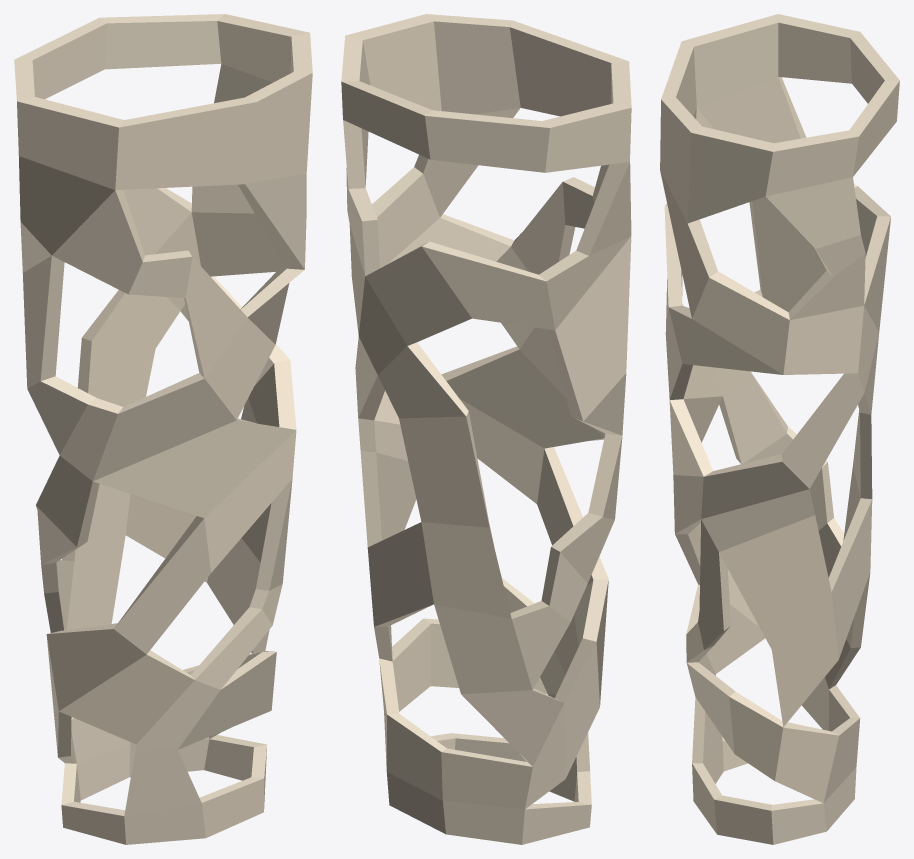
Rendered from g_o_cast3DPrinted.fbx.
The picture shows the model from 3 angles, left to right: view 1: azimuth 30°, elevation 25°; view 2: azimuth 150°, elevation 25°; view 3: azimuth 270°, elevation 25°; orthographic projection. The views are drawn at different scales.
Visible parts, largest first — view 1: cast3DPrinted; view 2: cast3DPrinted; view 3: cast3DPrinted.
Part boxes in pixels (left/top/right/bottom): cast3DPrinted: left=14, top=14, right=312, bottom=844; cast3DPrinted: left=341, top=14, right=631, bottom=844; cast3DPrinted: left=660, top=14, right=899, bottom=844.
Size of the model in its own units: 0.1498 by 0.3661 by 0.1104.
